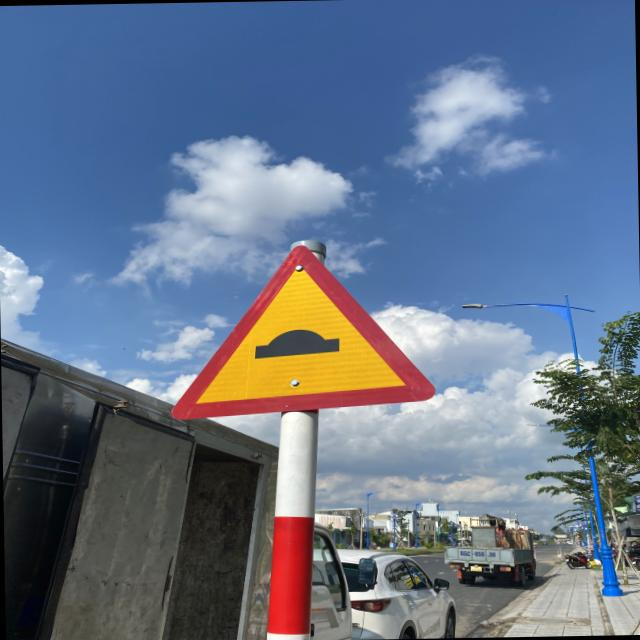Duong_Cong_Ben_Phai: (171, 242, 437, 422)
